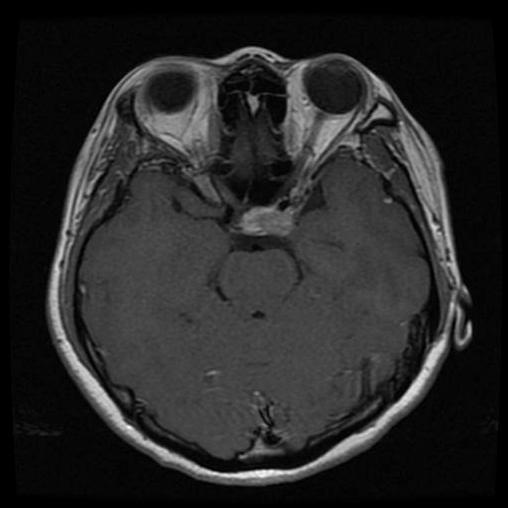Tumour-Pituitary: (205, 187, 317, 247)
